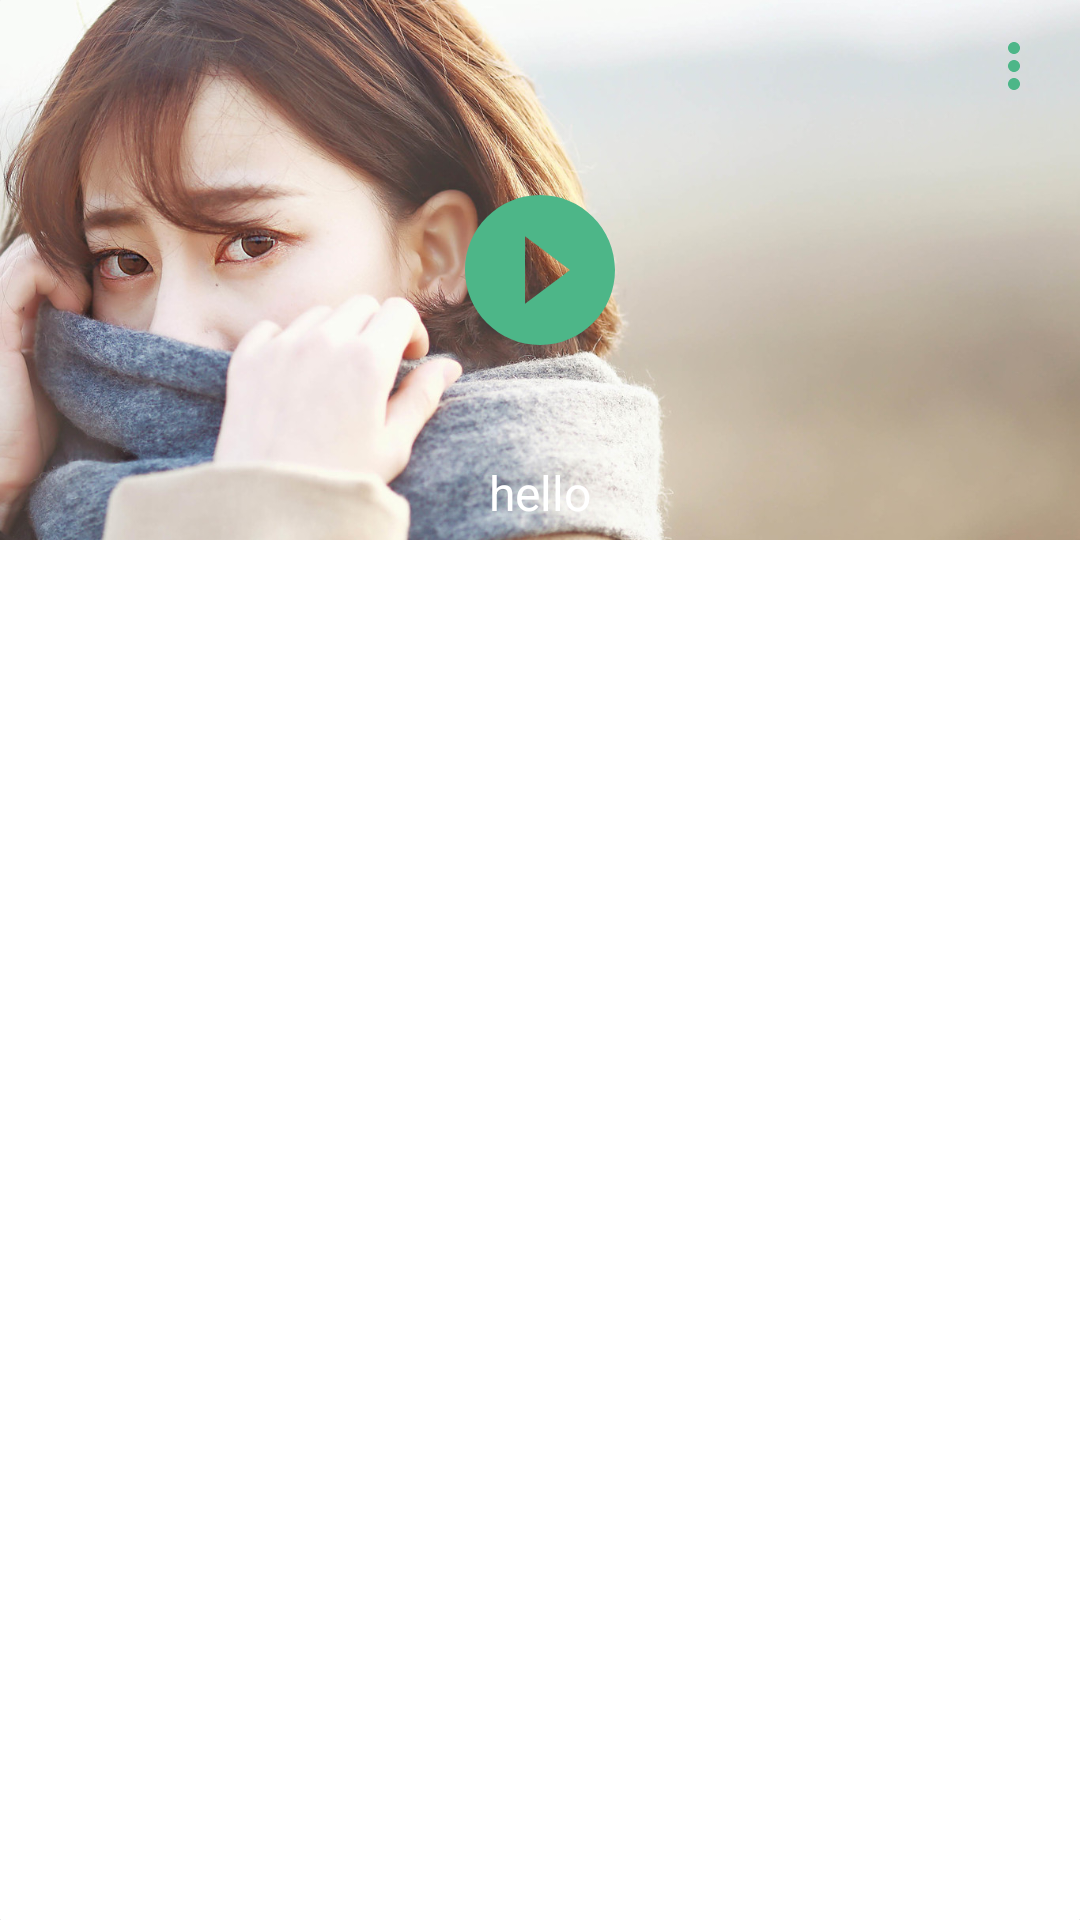

Point at icon controls on the screen. Image size 1080 × 1920, points as (x=x, y=y).
more vert: (x=1014, y=66)
play circle: (x=540, y=270)
